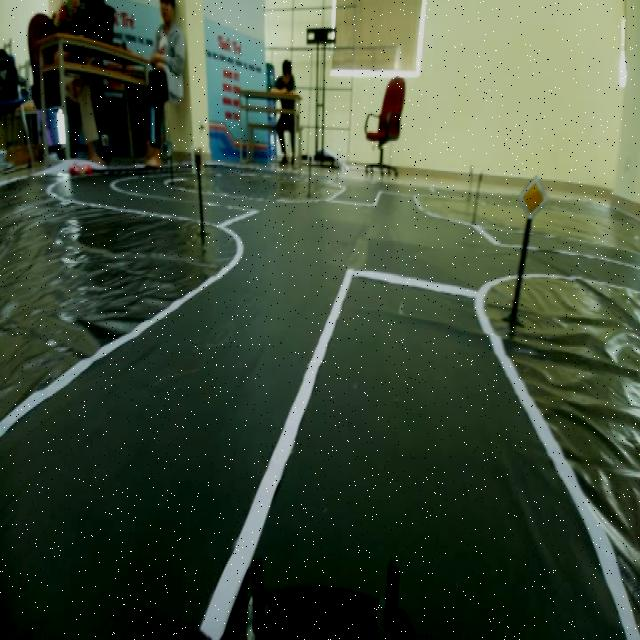priority: (510, 166, 550, 224)
